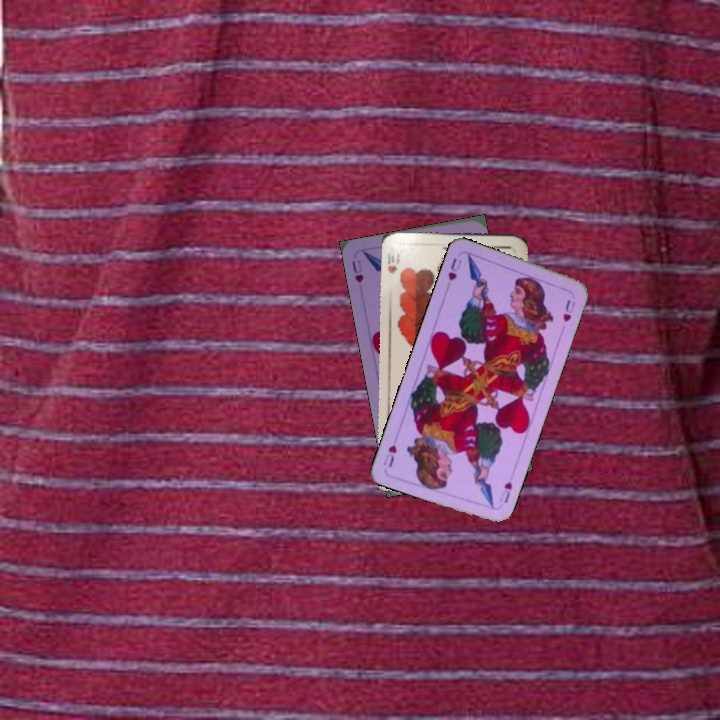H10: (384, 249, 402, 277)
HU: (444, 254, 464, 283), (495, 477, 515, 506), (348, 256, 366, 285)
